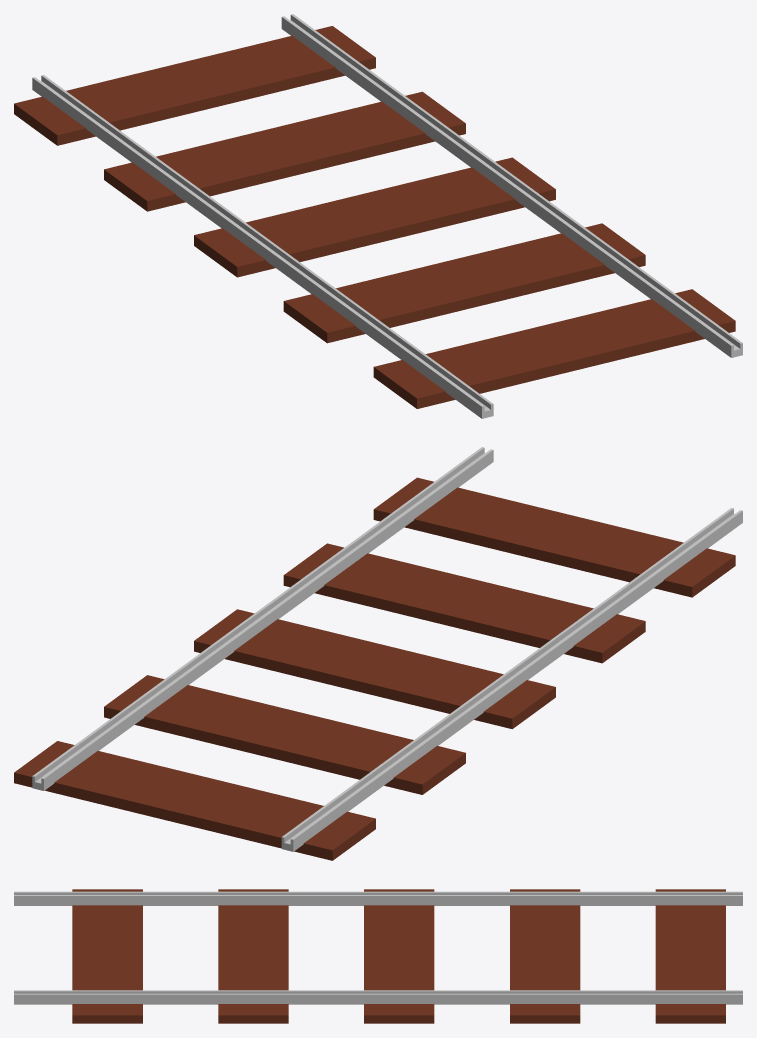
Rendered from trilho.fbx.
3 renders of one model, top to bottom at view 1: azimuth 30°, elevation 25°; view 2: azimuth 150°, elevation 25°; view 3: azimuth 270°, elevation 25°, orthographic. The views are drawn at different scales.
Visible parts, largest first — view 1: trilho; view 2: trilho; view 3: trilho.
Boxes of the visible parts, x1,y1,x2,y2 form: trilho: (14,14,742,418); trilho: (14,447,742,860); trilho: (14,889,742,1023).
Size of the model in its own units: 8.13 by 0.5297 by 19.87.
